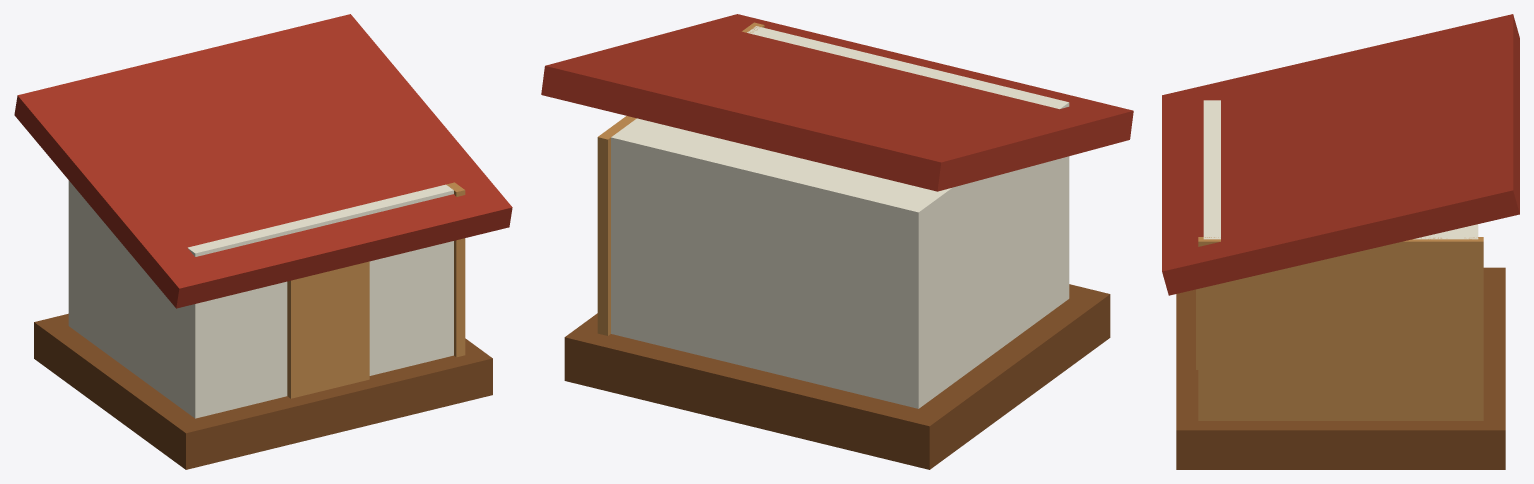
The model's file is tea_house.glb.
3 views of the same model, side by side, from view 1: azimuth 30°, elevation 25°; view 2: azimuth 150°, elevation 25°; view 3: azimuth 270°, elevation 25° (orthographic). The views are drawn at different scales.
Visible parts, largest first — view 1: tea_house; view 2: tea_house; view 3: tea_house.
Boxes of the visible parts, x1,y1,x2,y2 form: tea_house: (14,14,512,469); tea_house: (541,14,1133,469); tea_house: (1162,14,1519,469).
Size of the model in its own units: 3.8 by 2.88 by 3.26.
